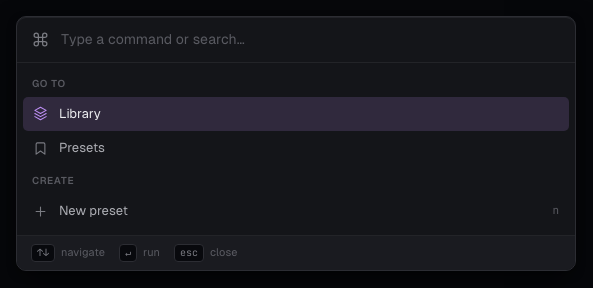
Test: CommandPalette › shows a no-match state
Type "zzzz" into the field with placeholder "Type a command or search…".
click(310, 40); type("zzzz")  # box x1=59 y1=30 x2=560 y2=49
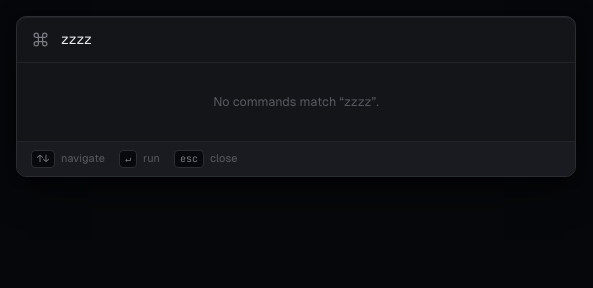
Now the text "No commands match “zzzz”." is shown, box x1=213 y1=94 x2=379 y2=109
